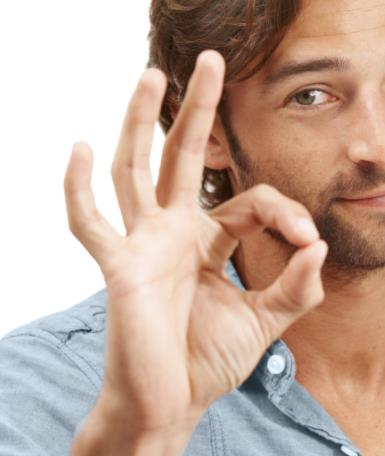left: (58, 45, 332, 417)
